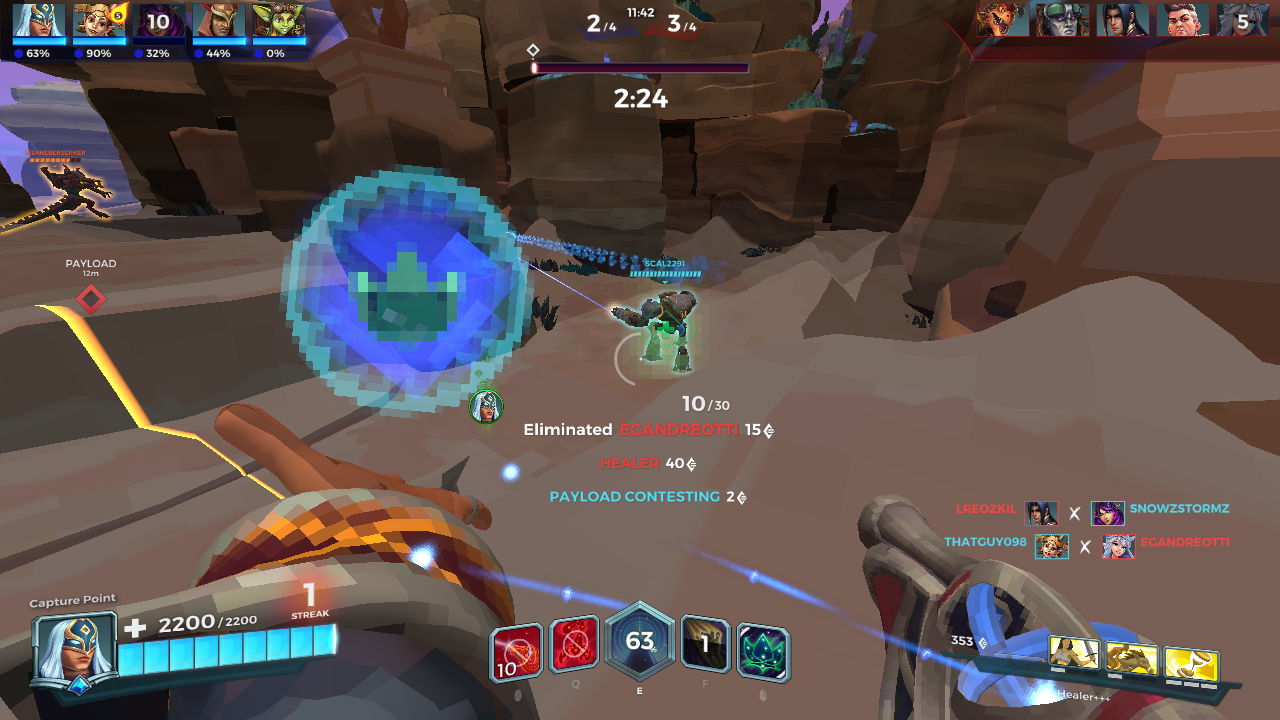model: (1, 164, 111, 231)
